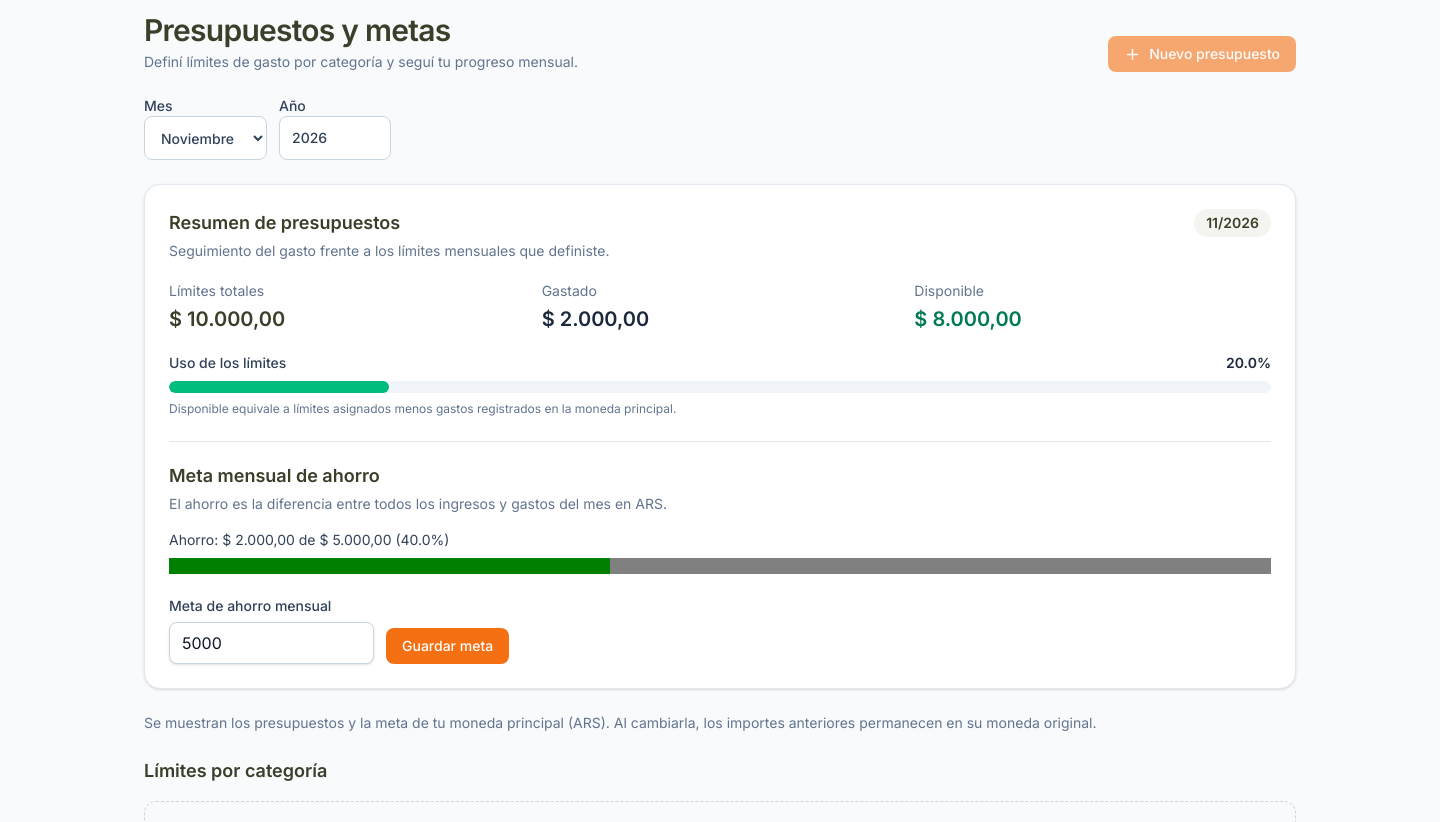
Test case: Presupuestos › confirma el guardado de la meta y permite reintentar solo la recarga
This screenshot has width=1440, height=822.
Expected: the text "Ahorro: $ 2.000,00 de $ 5.000,00 (40.0%)" is shown, [169, 531, 449, 548]
Replace the text in the number field labelled "Meta de ahorro mensual" with "8000" at (272, 643), box [169, 622, 374, 664]
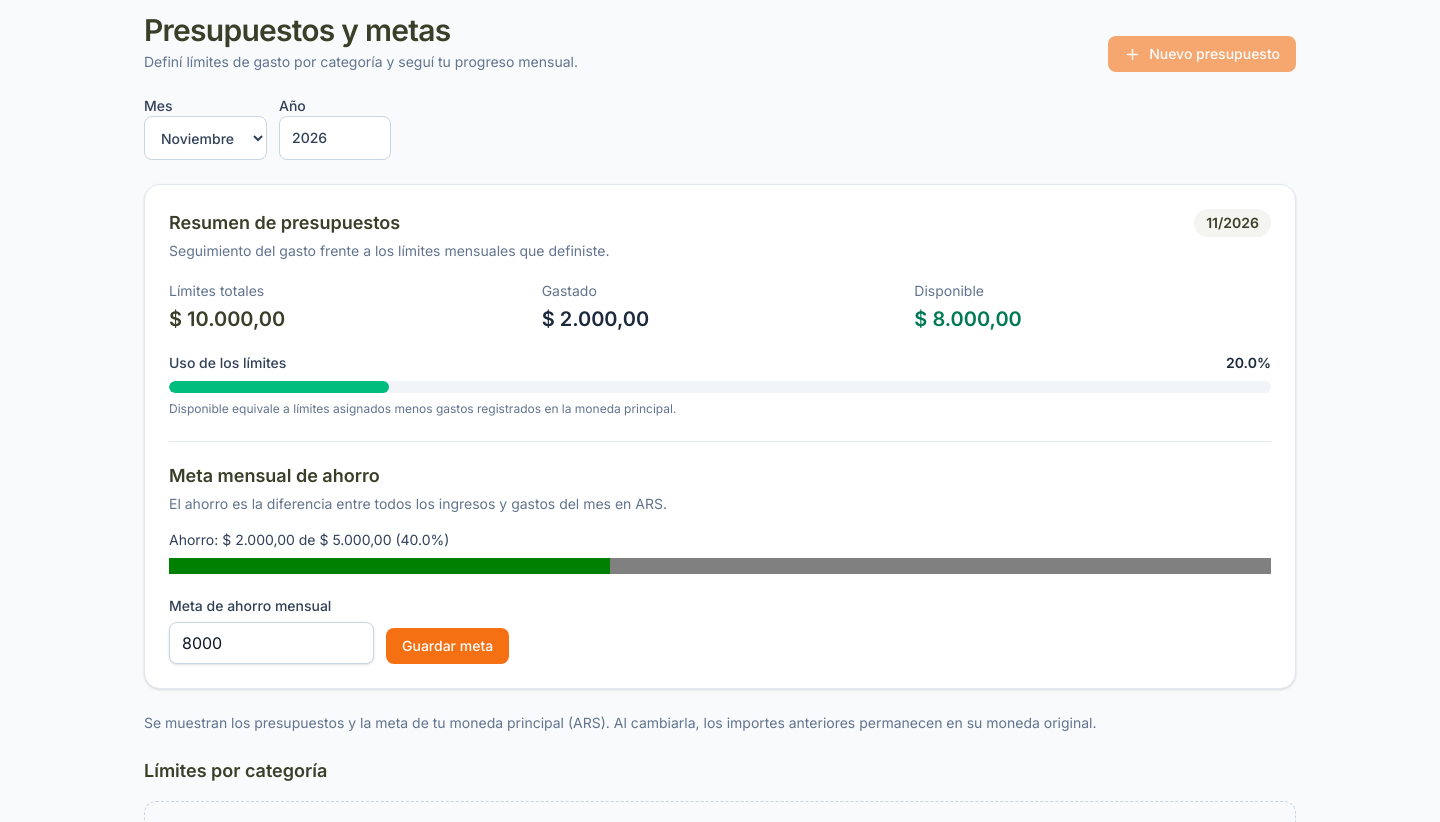
Click the button "Guardar meta" at (448, 646), box [386, 628, 509, 664]
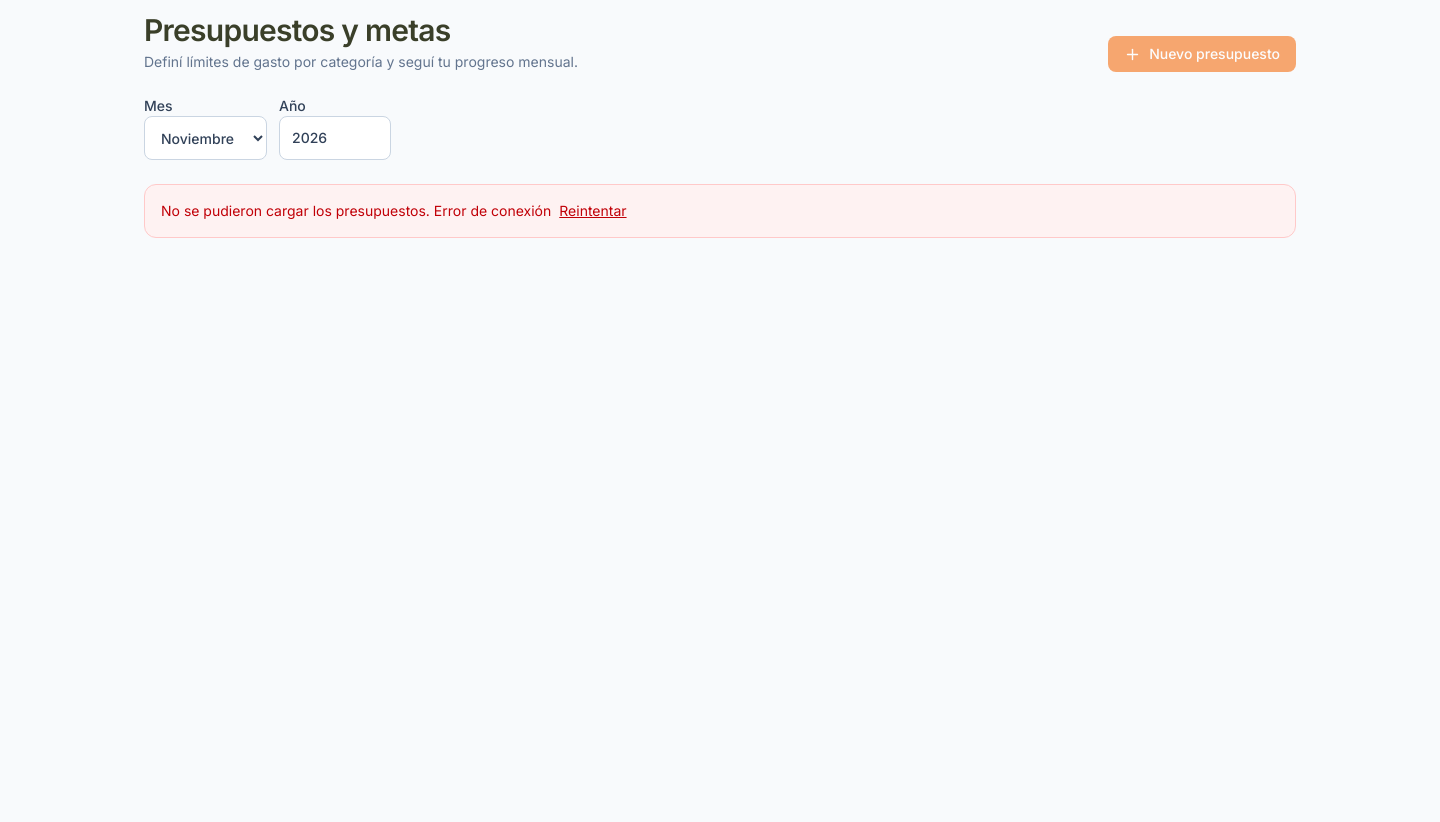
Expected: the message shows "Error de conexión", [434, 202, 551, 219]
Click the button "Reintentar" at (593, 211), box [559, 201, 627, 221]
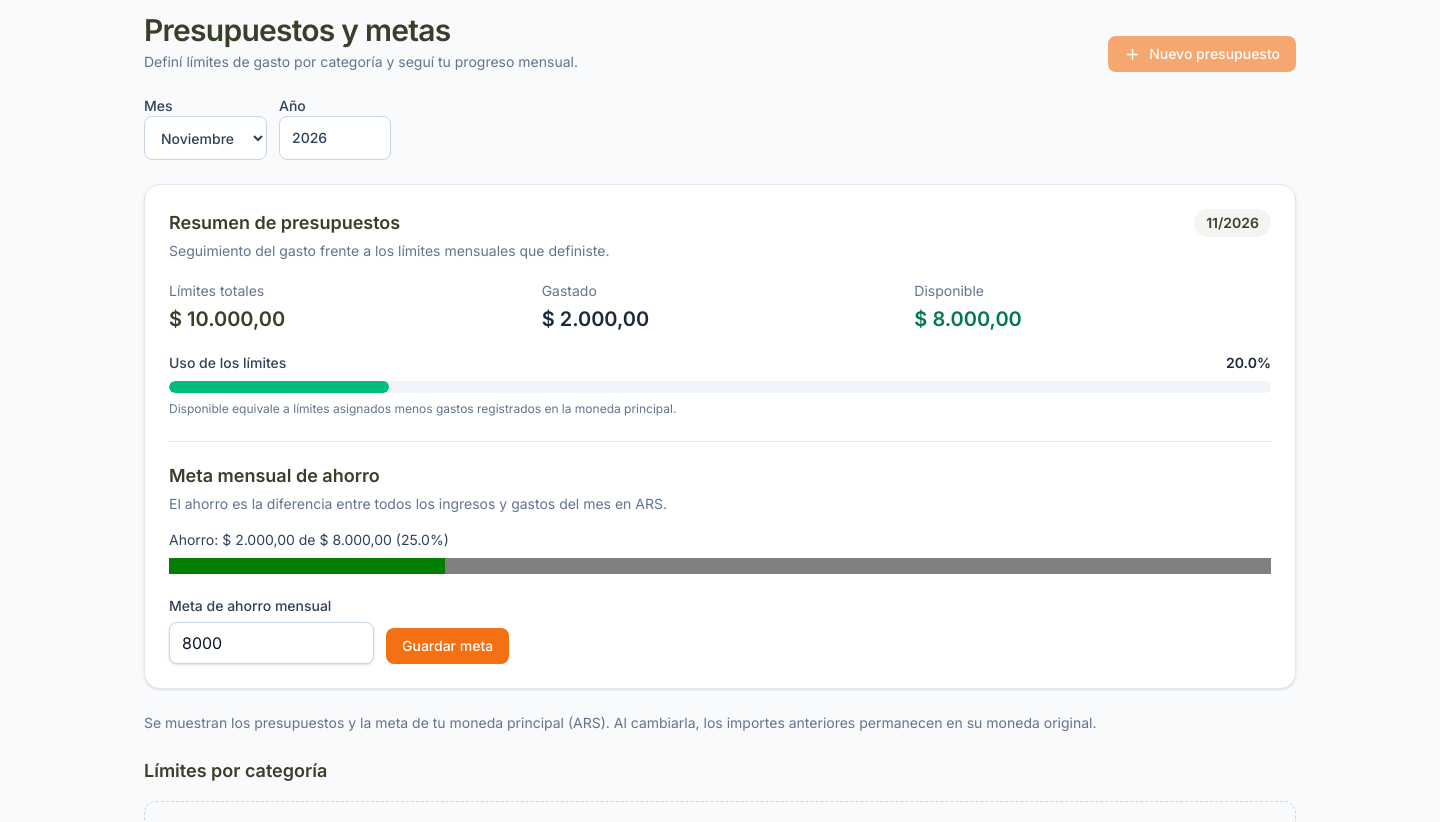
Expected: the text "Ahorro: $ 2.000,00 de $ 8.000,00 (25.0%)" is shown, [169, 531, 449, 548]
